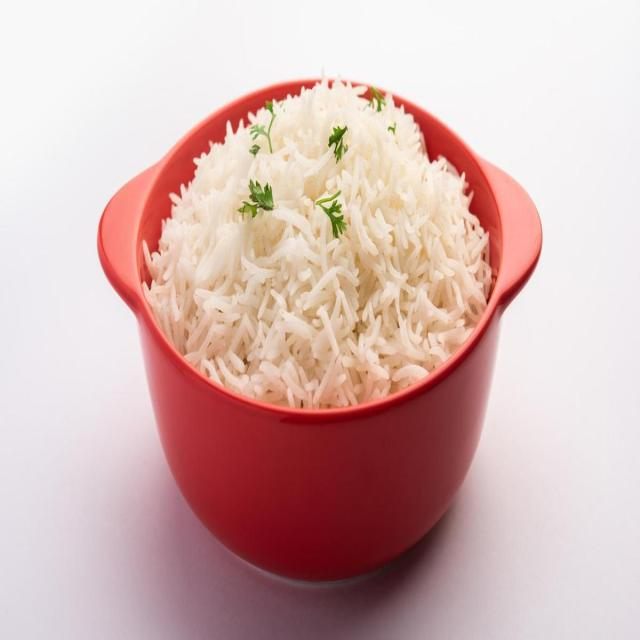carne de res: (126, 76, 514, 423)
